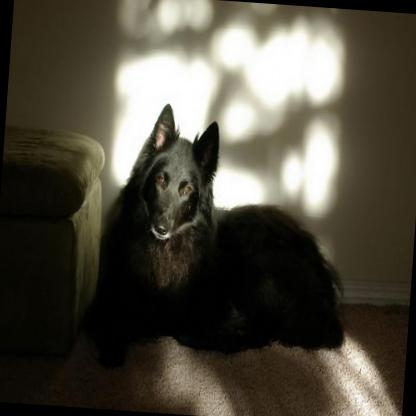groenendael: (92, 98, 360, 364)
